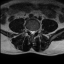CCS_normal: (32, 28, 33, 37)
LFS_normal: (35, 28, 37, 34)
LLS_normal: (33, 28, 35, 35)
RFS_normal: (28, 27, 30, 33)
RLS_normal: (30, 28, 32, 35)
